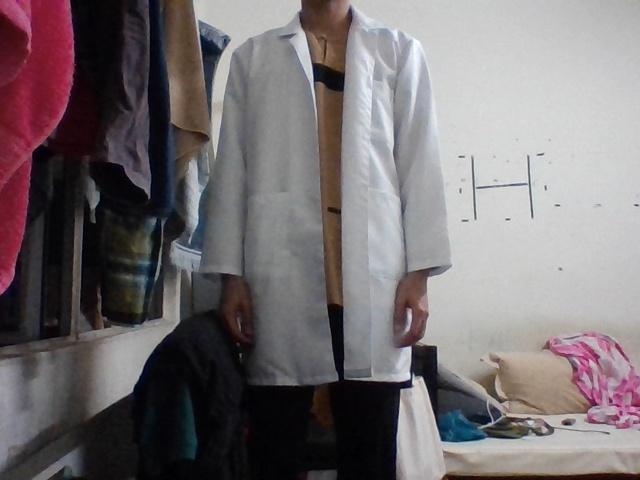lab_coat: (199, 8, 453, 388)
